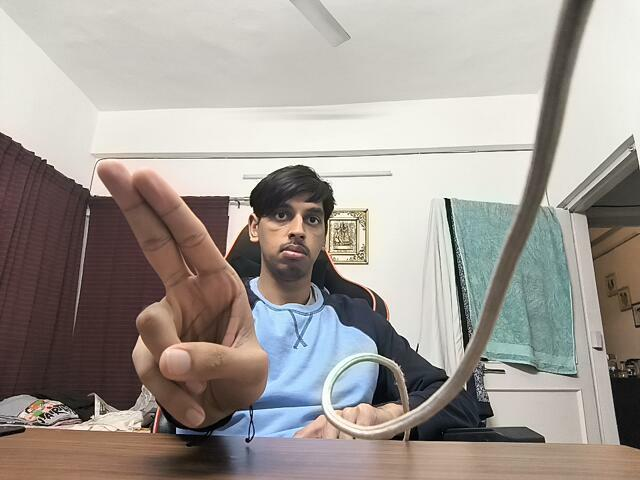FORWARD: (80, 136, 289, 455)
